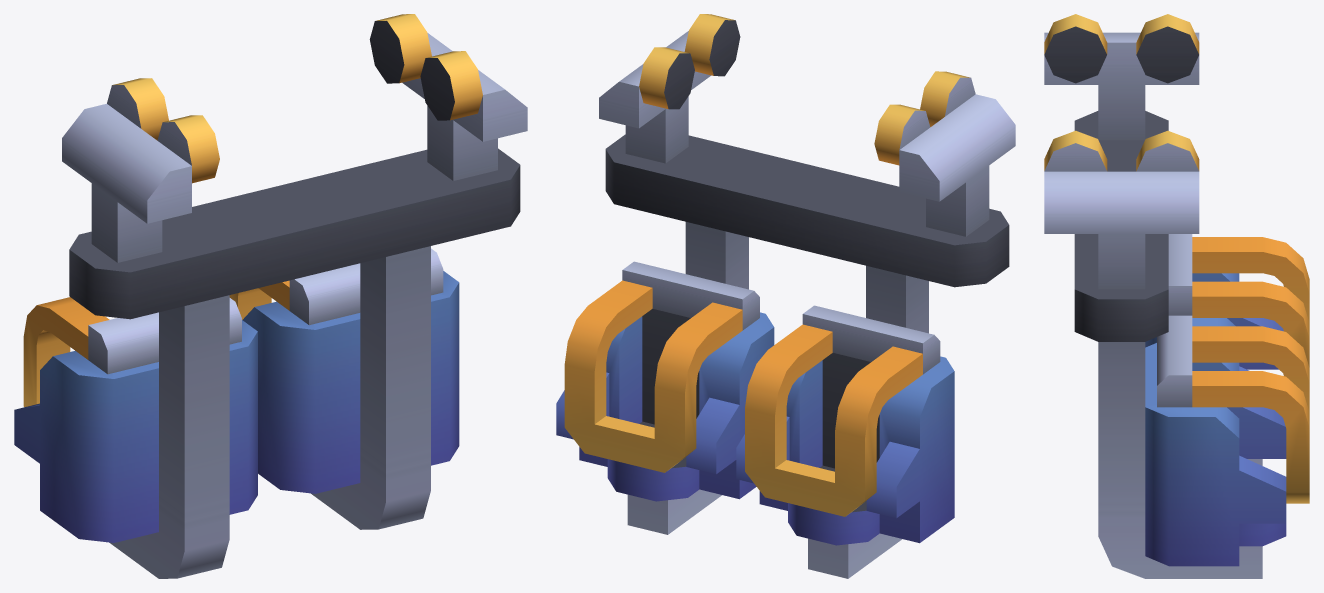
File: kenney-coaster-coaster-train-hanging.glb
3 renders of one model, left to right at view 1: azimuth 30°, elevation 25°; view 2: azimuth 150°, elevation 25°; view 3: azimuth 270°, elevation 25°, orthographic. The views are drawn at different scales.
Visible parts, largest first — view 1: coaster-train-hanging; view 2: coaster-train-hanging; view 3: coaster-train-hanging.
Part boxes in pixels (x1=…): coaster-train-hanging: x1=14, y1=14, x2=527, y2=578; coaster-train-hanging: x1=556, y1=14, x2=1015, y2=578; coaster-train-hanging: x1=1044, y1=14, x2=1309, y2=578.
Size of the model in its own units: 0.95 by 1.05 by 0.565.
1 material, 1 textured.
